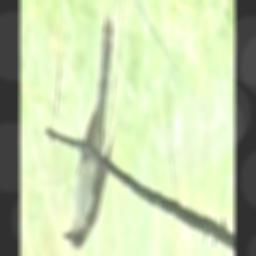Cuckoo: (64, 15, 117, 249)
